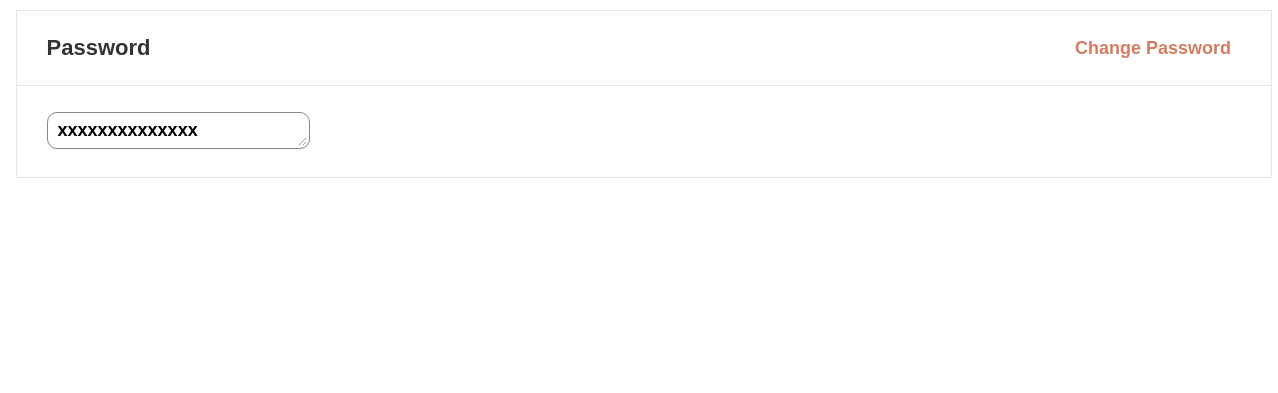
old password › is marked invalid when it is wrong
Click the button "Change Password" at (1152, 48), box [1072,37,1232,59]
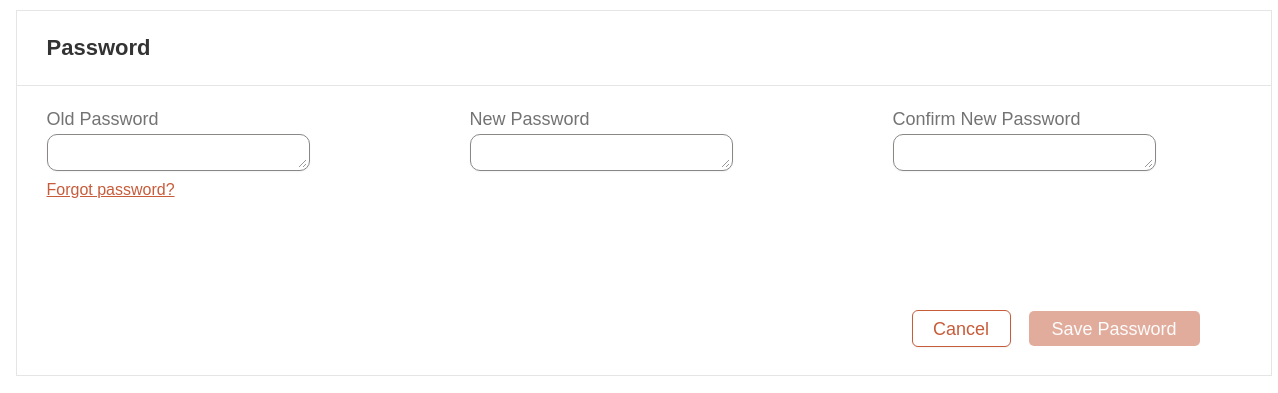
Type "wrong" into the password field with test id "oldPassword" at (178, 152), box [46,134,310,171]
Wait 1000 ms
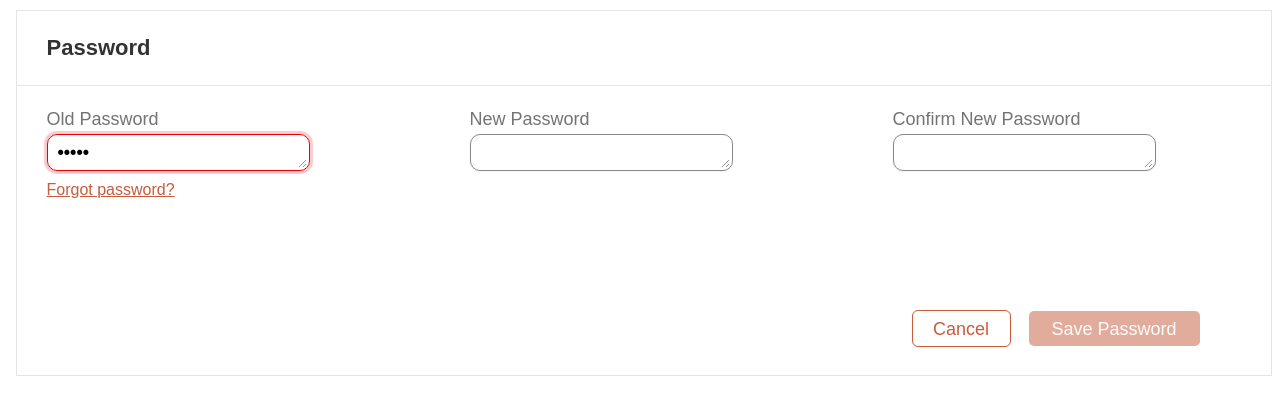
Expected: the password field with test id "oldPassword" is marked as invalid, [46,134,310,171]
